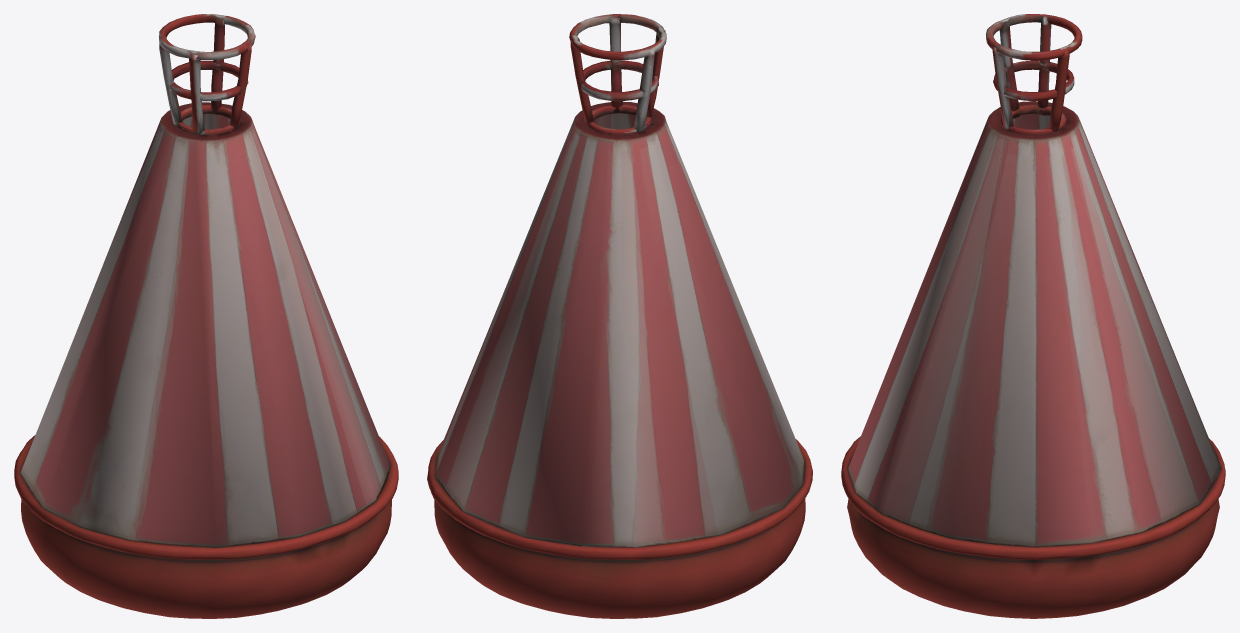
Rendered from original_glb.glb.
The picture shows the model from 3 angles, left to right: view 1: azimuth 30°, elevation 25°; view 2: azimuth 150°, elevation 25°; view 3: azimuth 270°, elevation 25°; orthographic projection.
Parts seen in each view (by area): view 1: Channel Buoy; view 2: Channel Buoy; view 3: Channel Buoy.
Part boxes in pixels (x1,y1,x2,y2): Channel Buoy: (14,14,398,618); Channel Buoy: (427,14,812,618); Channel Buoy: (841,14,1225,618).
Bounding box in the file's own units: 0.6543 × 0.998 × 0.6543.
Materials: 1 (1 with a texture image).
